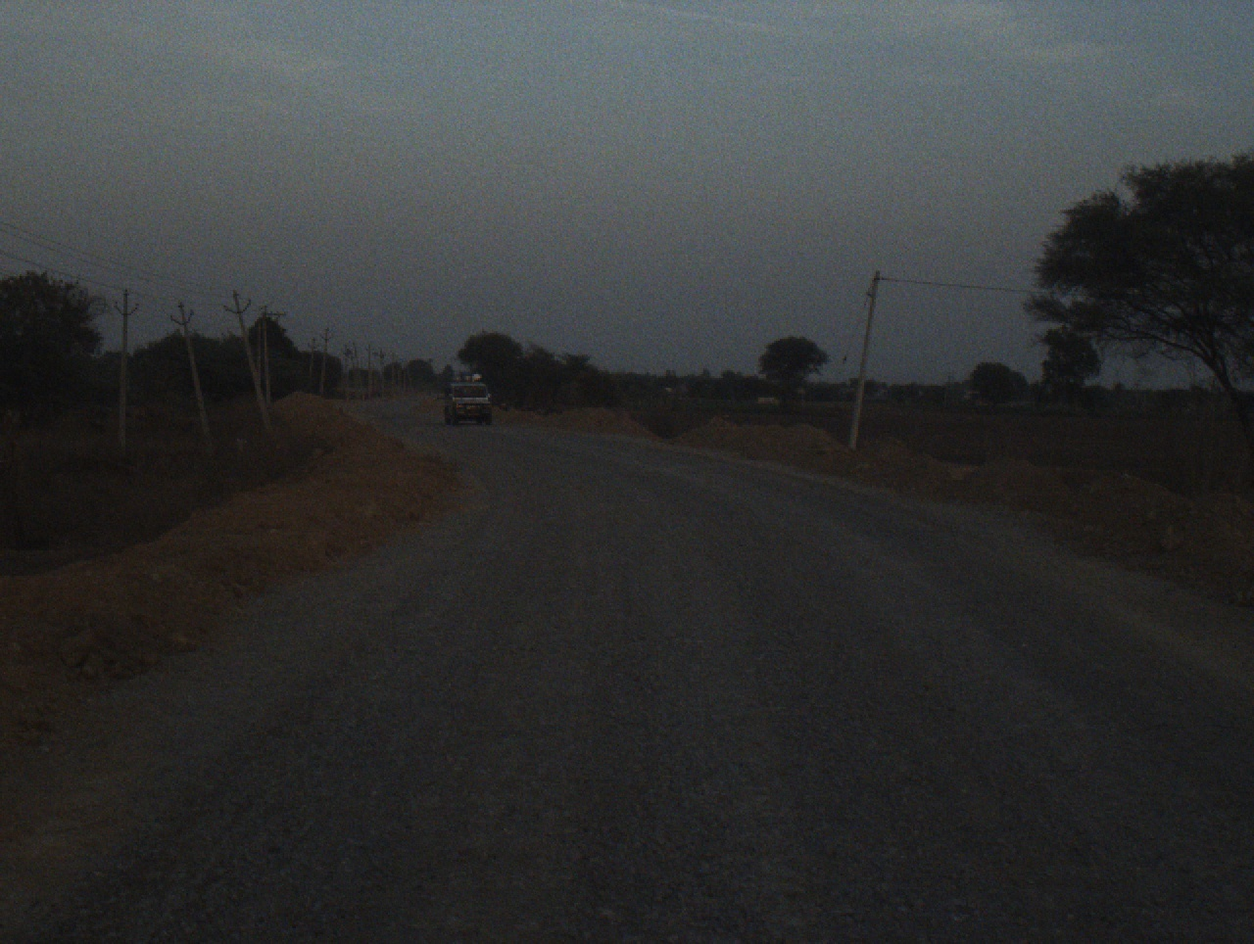car: (442, 363, 496, 427)
